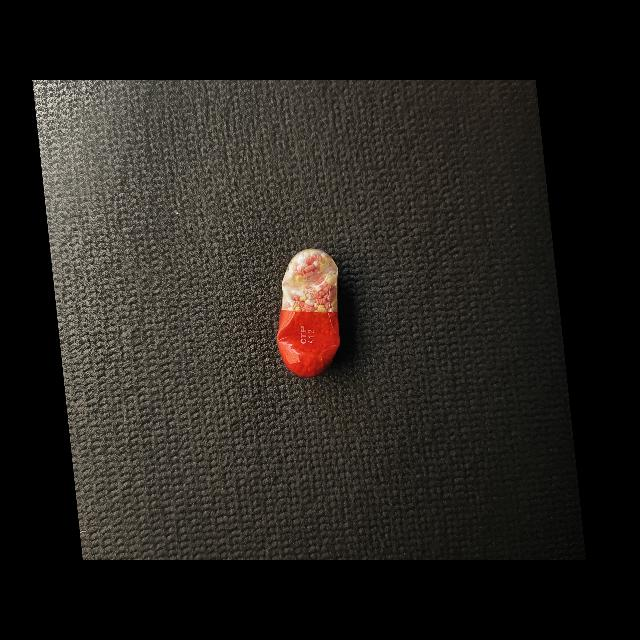Defective Capsule: (277, 248, 340, 378)
